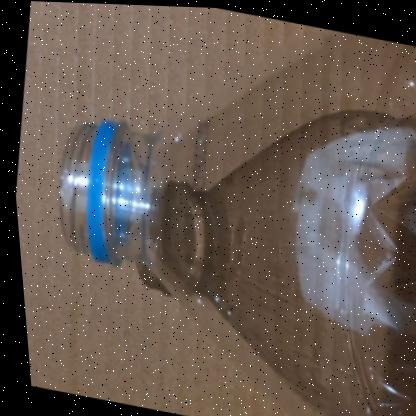open bottle: (1, 1, 394, 416)
